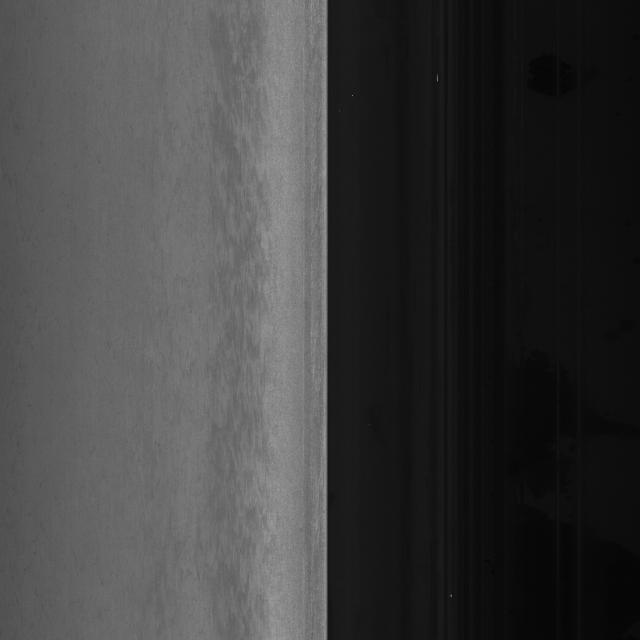inclusion: (212, 241, 276, 430)
